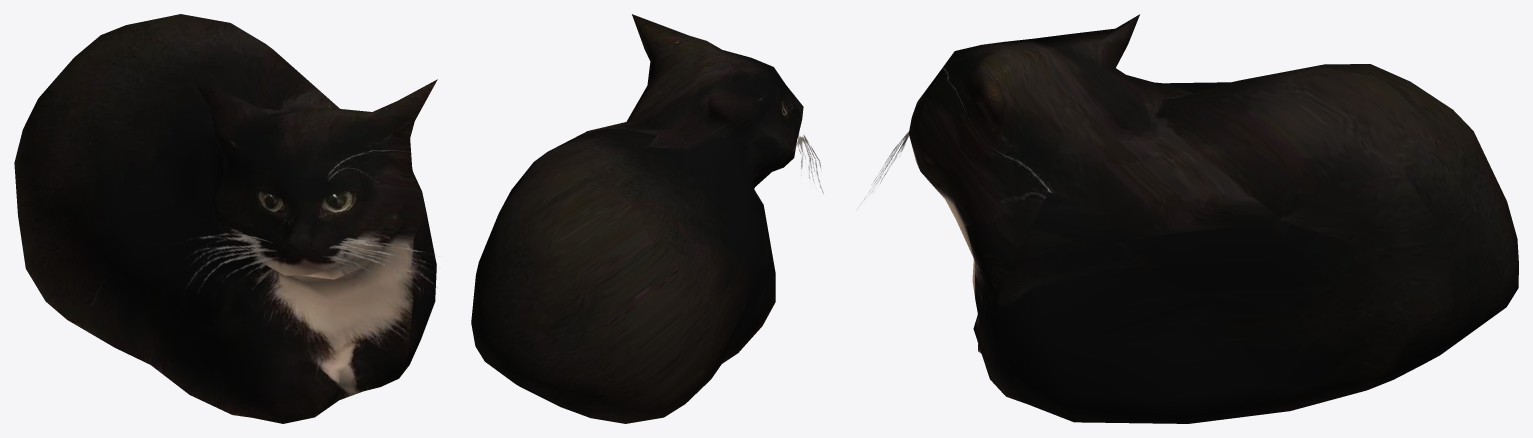
File: cat.glb
3 views of the same model, side by side, from view 1: azimuth 30°, elevation 25°; view 2: azimuth 150°, elevation 25°; view 3: azimuth 270°, elevation 25° (orthographic). The views are drawn at different scales.
Visible parts, largest first — view 1: Maxwell, whiskers; view 2: Maxwell, whiskers; view 3: Maxwell.
Part boxes in pixels (box(x1,y1,x2,y2)): Maxwell: box(14, 14, 437, 423); whiskers: box(186, 229, 434, 291); Maxwell: box(471, 14, 803, 423); whiskers: box(796, 132, 823, 193); Maxwell: box(908, 14, 1518, 423).
Size of the model in its own units: 2.06 by 2.45 by 4.23.
2 materials, 2 textured.
